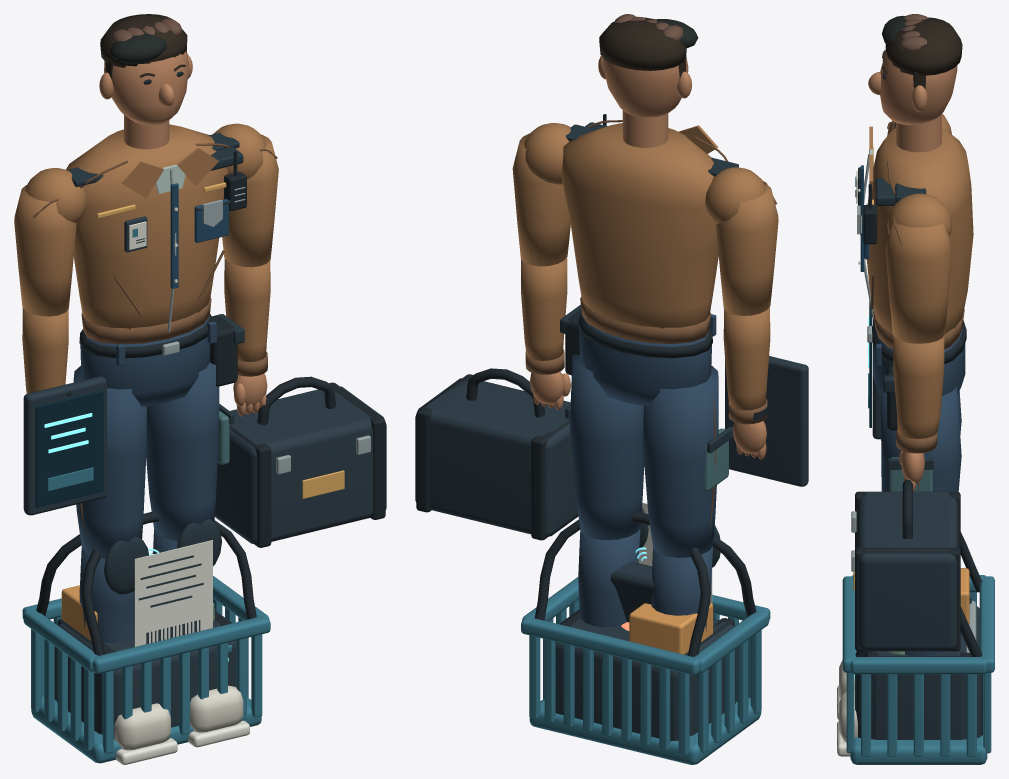
The model's file is enterprise-actors.glb.
3 renders of one model, left to right at view 1: azimuth 30°, elevation 25°; view 2: azimuth 150°, elevation 25°; view 3: azimuth 270°, elevation 25°, orthographic.
Parts seen in each view (by area): view 1: Customer_Torso_Customertailoredshirt, ShoppingBasket_Body_Basketslateblue, Technician_BagMount_Graphitedevicecasing, Customer_RightThigh_Customerwoventrousers, Customer_LeftUpperArm_Customertailoredshirt, Customer_LeftThigh_Customerwoventrousers, ReceiptPrinter_Receipt_Warmwhitepaperandtrim, Staff_Tablet_Darkdisplayglass, Customer_Head_Customerskin, Customer_Hips_Customerwoventrousers, Customer_RightUpperArm_Customertailoredshirt, Technician_BagMount_Softblackrubber (+27 smaller); view 2: Customer_Torso_Customertailoredshirt, ShoppingBasket_Body_Basketslateblue, Technician_BagMount_Graphitedevicecasing, Customer_LeftThigh_Customerwoventrousers, Customer_RightThigh_Customerwoventrousers, Customer_LeftUpperArm_Customertailoredshirt, Customer_RightUpperArm_Customertailoredshirt, Staff_Tablet_Graphitedevicecasing, Customer_Hips_Customerwoventrousers, Customer_Head_Customerskin, ReceiptPrinter_Body_Graphitedevicecasing, Technician_BagMount_Softblackrubber (+15 smaller); view 3: Technician_BagMount_Graphitedevicecasing, ShoppingBasket_Body_Basketslateblue, Customer_Torso_Customertailoredshirt, Customer_RightUpperArm_Customertailoredshirt, Customer_Head_Customerskin, Toolbox_Body_Graphitedevicecasing, Customer_RightForearm_Customertailoredshirt, Customer_RightThigh_Customerwoventrousers, Customer_Head_Customerhair, Technician_BagMount_Softblackrubber, Customer_Hips_Customerwoventrousers, ReceiptPrinter_Body_Graphitedevicecasing (+18 smaller).
Boxes of the visible parts, x1,y1,x2,y2 form: Customer_Torso_Customertailoredshirt: (66, 124, 228, 329); ShoppingBasket_Body_Basketslateblue: (22, 576, 270, 763); Technician_BagMount_Graphitedevicecasing: (214, 386, 386, 544); Customer_RightThigh_Customerwoventrousers: (146, 362, 219, 541); Customer_LeftUpperArm_Customertailoredshirt: (14, 168, 86, 316); Customer_LeftThigh_Customerwoventrousers: (73, 366, 146, 558); ReceiptPrinter_Receipt_Warmwhitepaperandtrim: (134, 540, 212, 646); Staff_Tablet_Darkdisplayglass: (35, 390, 103, 507); Customer_Head_Customerskin: (99, 50, 192, 149); Customer_Hips_Customerwoventrousers: (80, 317, 216, 406); Customer_RightUpperArm_Customertailoredshirt: (213, 123, 278, 267); Technician_BagMount_Softblackrubber: (229, 376, 385, 547); Customer_Torso_Customertailoredshirt: (561, 123, 718, 329); ShoppingBasket_Body_Basketslateblue: (521, 577, 770, 764); Technician_BagMount_Graphitedevicecasing: (415, 378, 578, 536); Customer_LeftThigh_Customerwoventrousers: (642, 365, 718, 557); Customer_RightThigh_Customerwoventrousers: (570, 354, 644, 540); Customer_LeftUpperArm_Customertailoredshirt: (705, 167, 778, 315); Customer_RightUpperArm_Customertailoredshirt: (512, 123, 570, 266); Staff_Tablet_Graphitedevicecasing: (725, 356, 808, 486); Customer_Hips_Customerwoventrousers: (579, 314, 716, 406); Customer_Head_Customerskin: (598, 55, 691, 147); ReceiptPrinter_Body_Graphitedevicecasing: (555, 625, 737, 741); Technician_BagMount_Softblackrubber: (416, 368, 569, 540); Technician_BagMount_Graphitedevicecasing: (857, 492, 958, 651); ShoppingBasket_Body_Basketslateblue: (842, 575, 994, 764); Customer_Torso_Customertailoredshirt: (866, 126, 973, 333); Customer_RightUpperArm_Customertailoredshirt: (885, 193, 952, 343); Customer_Head_Customerskin: (868, 51, 957, 152); Toolbox_Body_Graphitedevicecasing: (869, 632, 966, 739); Customer_RightForearm_Customertailoredshirt: (893, 335, 944, 438); Customer_RightThigh_Customerwoventrousers: (880, 387, 961, 491); Customer_Head_Customerhair: (882, 17, 962, 89); Technician_BagMount_Softblackrubber: (855, 479, 960, 651); Customer_Hips_Customerwoventrousers: (872, 328, 965, 395); ReceiptPrinter_Body_Graphitedevicecasing: (855, 606, 982, 739).
Size of the model in its own units: 0.93 by 1.75 by 0.358.
